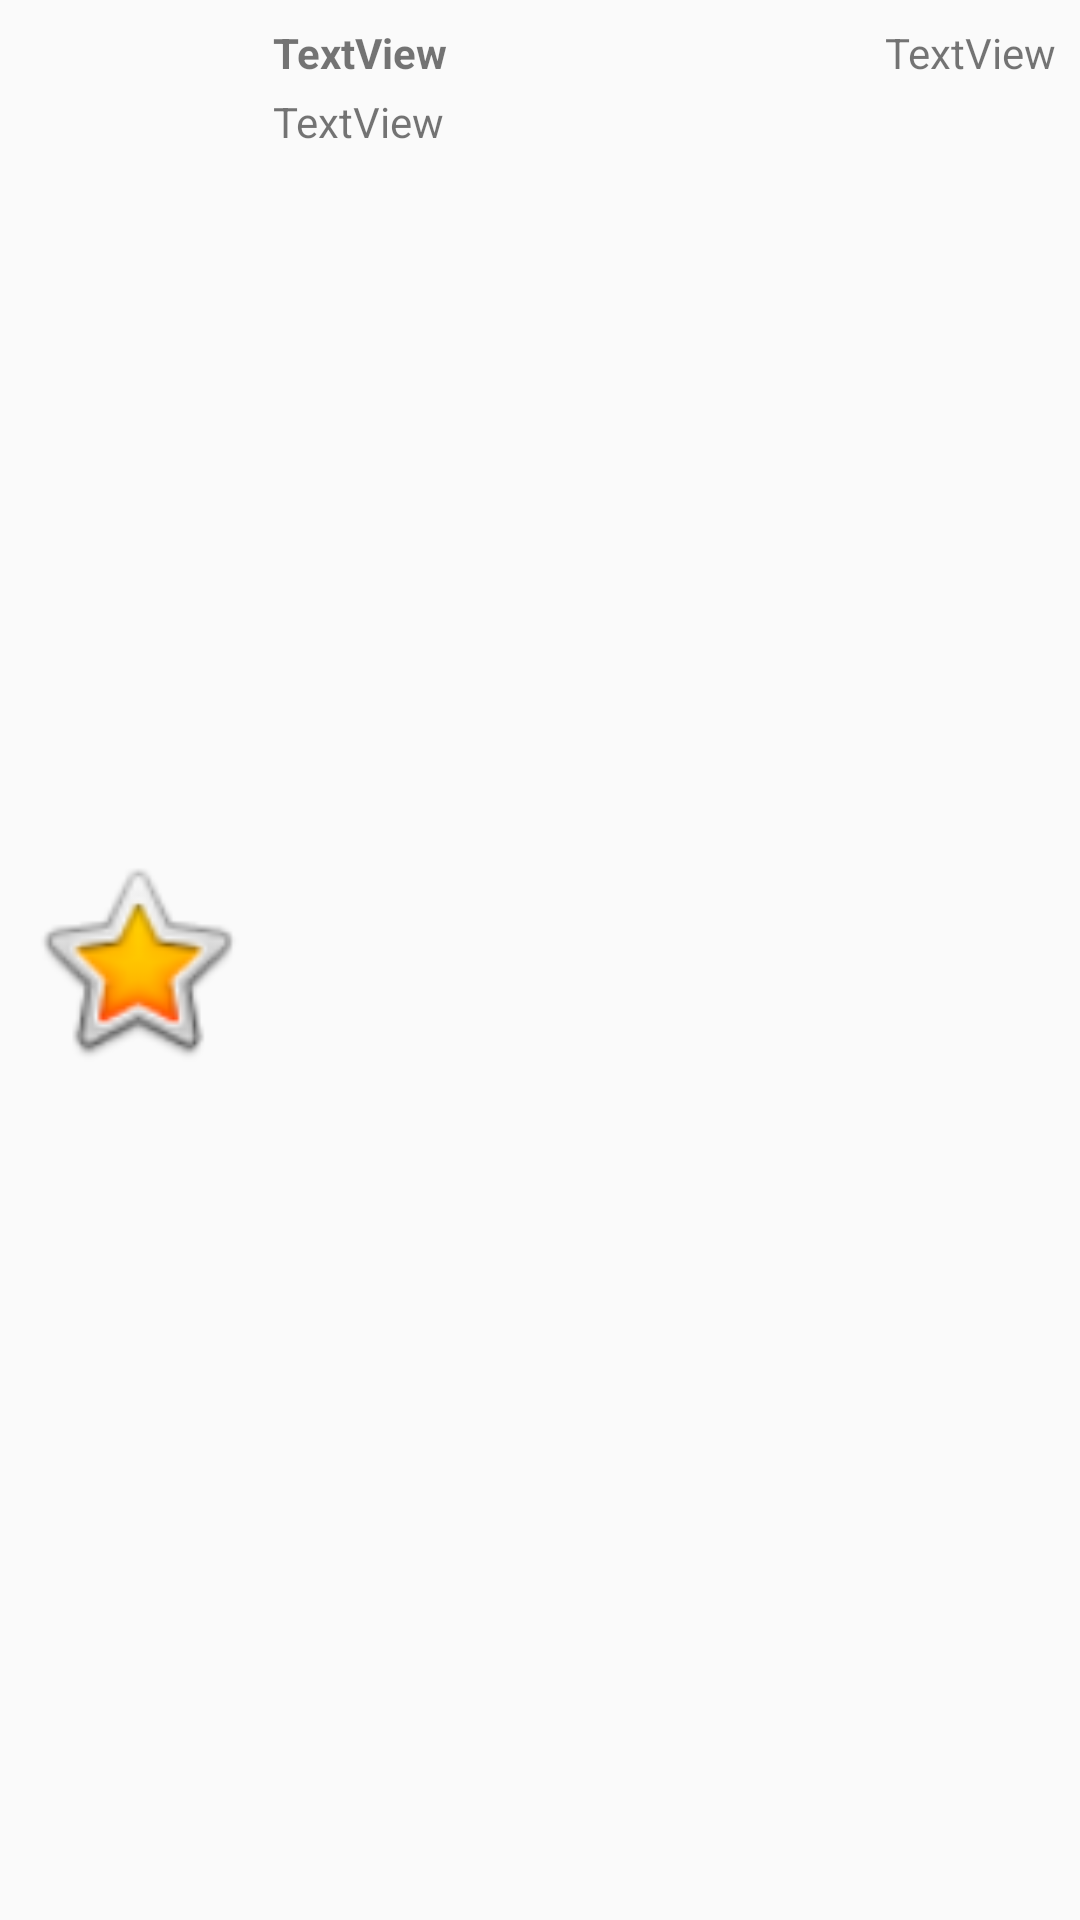

Where icons sit on this 1080 x 1920 app screen, as (x1, y1, x2, y2):
star on: (44, 871, 232, 1054)
